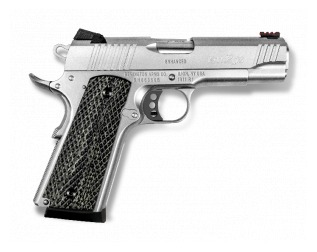gun: (29, 24, 295, 224)
